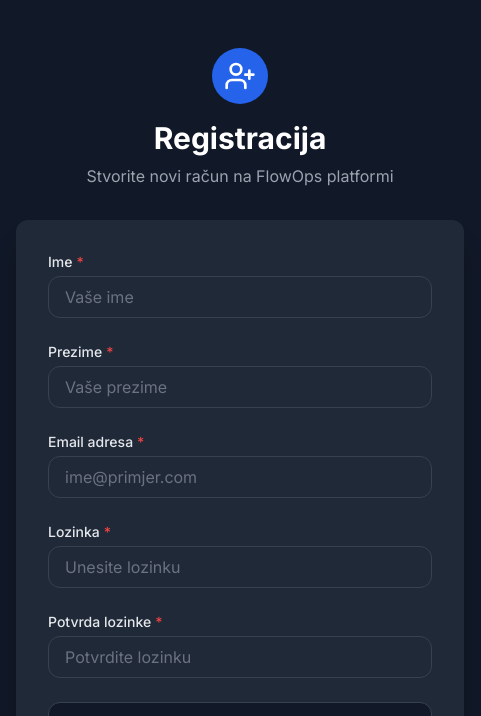
Test: RegisterPage › shows validation error for mismatched passwords
The image size is (481, 716).
Type "Ivan" into the field with placeholder "Vaše ime" at (240, 297), box [48,276,432,318]
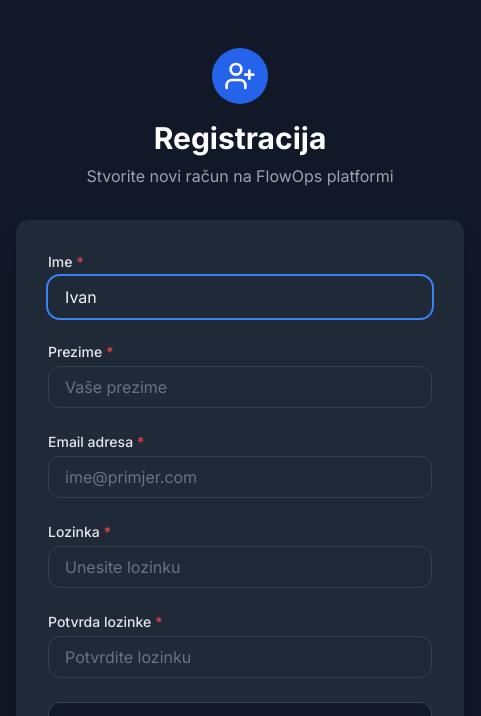
Type "Horvat" into the field with placeholder "Vaše prezime" at (240, 387), box [48,366,432,408]
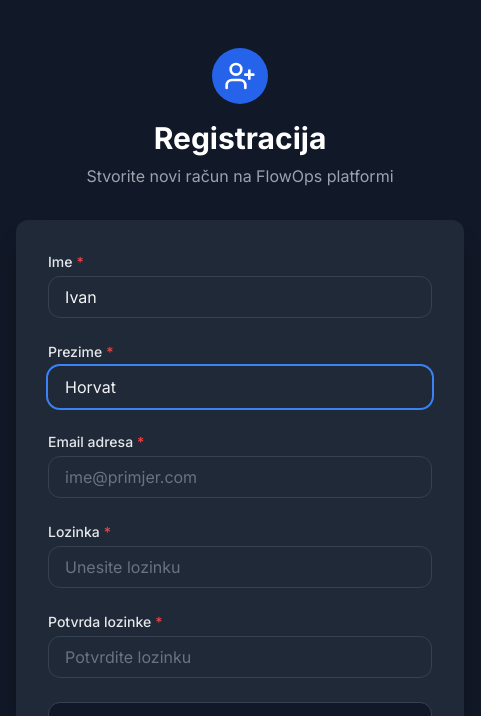
Type "test@example.com" into the field labelled "Email adresa*" at (240, 477), box [48,456,432,498]
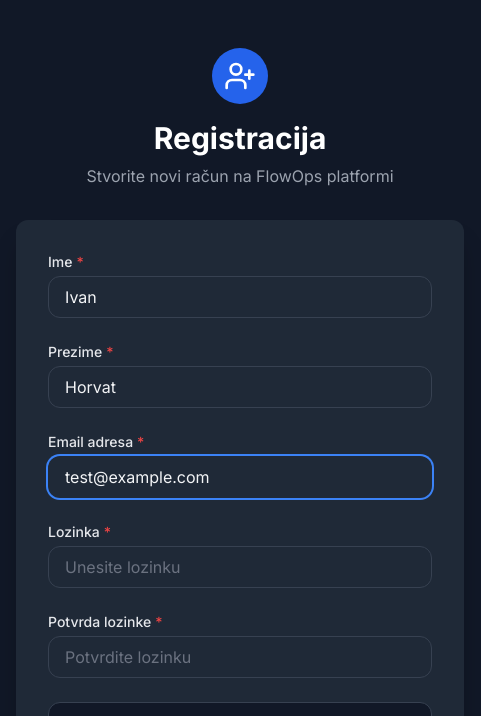
Type "Password123" into the password field with placeholder "Unesite lozinku" at (240, 567), box [48,546,432,588]
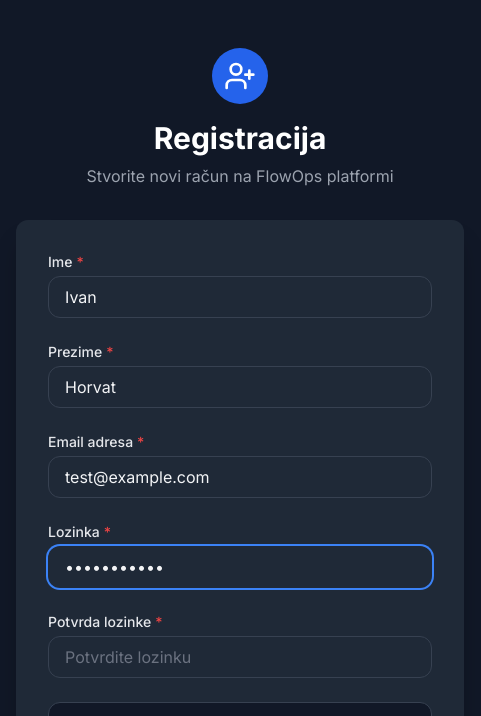
Type "Password456" into the password field with placeholder "Potvrdite lozinku" at (240, 657), box [48,636,432,678]
(page scrolled)
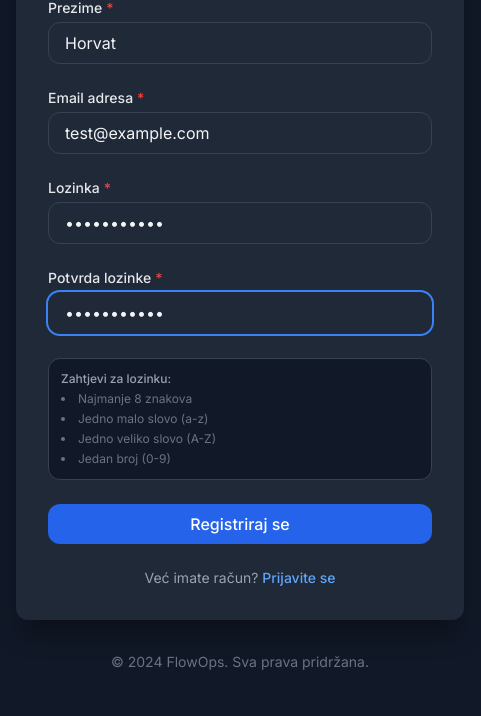
Click the button "Registriraj se" at (240, 524), box [48,504,432,544]
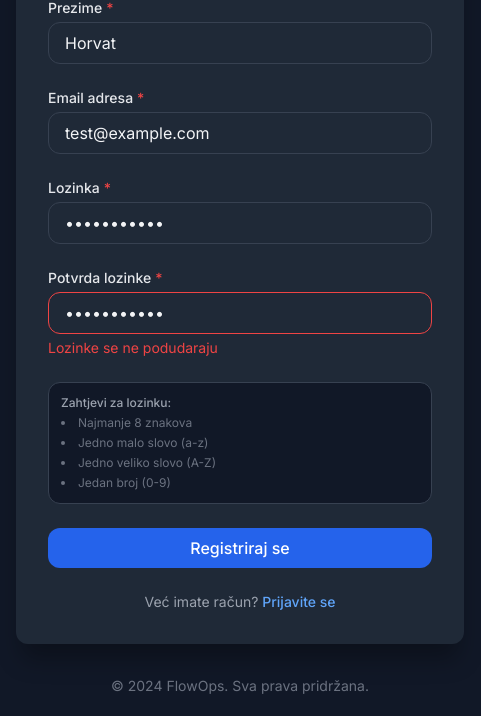
Expected: the text "Lozinke se ne podudaraju" is shown, [48,339,218,356]
